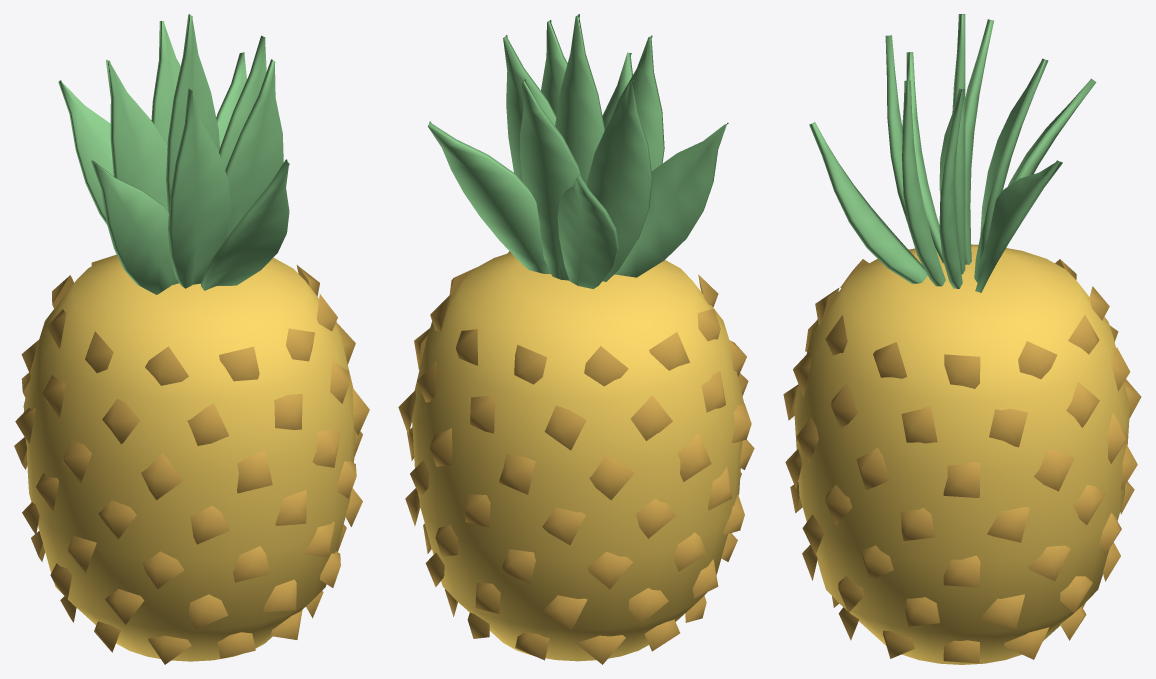
File: veg_pineapple.glb
The picture shows the model from 3 angles, left to right: view 1: azimuth 30°, elevation 25°; view 2: azimuth 150°, elevation 25°; view 3: azimuth 270°, elevation 25°; orthographic projection.
Parts seen in each view (by area): view 1: veg_pineapple; view 2: veg_pineapple; view 3: veg_pineapple.
Part boxes in pixels (x1,y1,x2,y2): veg_pineapple: (14, 14, 369, 664); veg_pineapple: (398, 14, 754, 664); veg_pineapple: (783, 14, 1141, 664).
Bounding box in the file's own units: 0.3312 × 0.64 × 0.3304.
